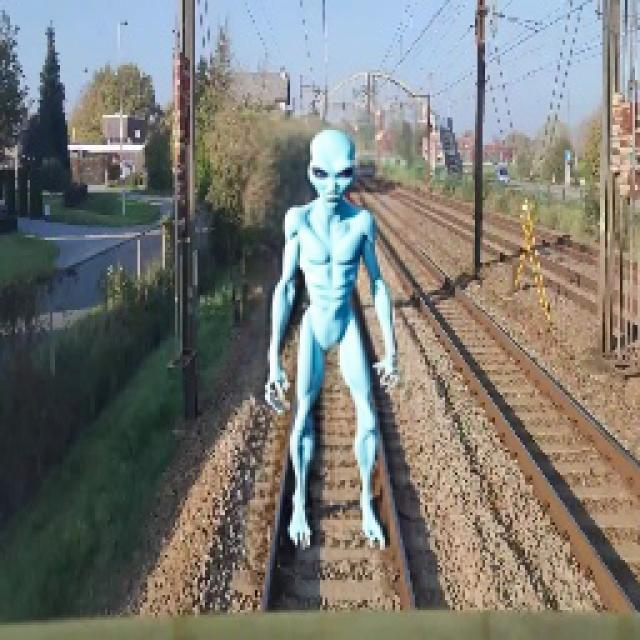danger: (261, 122, 404, 554)
rail: (327, 179, 640, 611), (227, 323, 445, 610), (366, 174, 598, 321)
